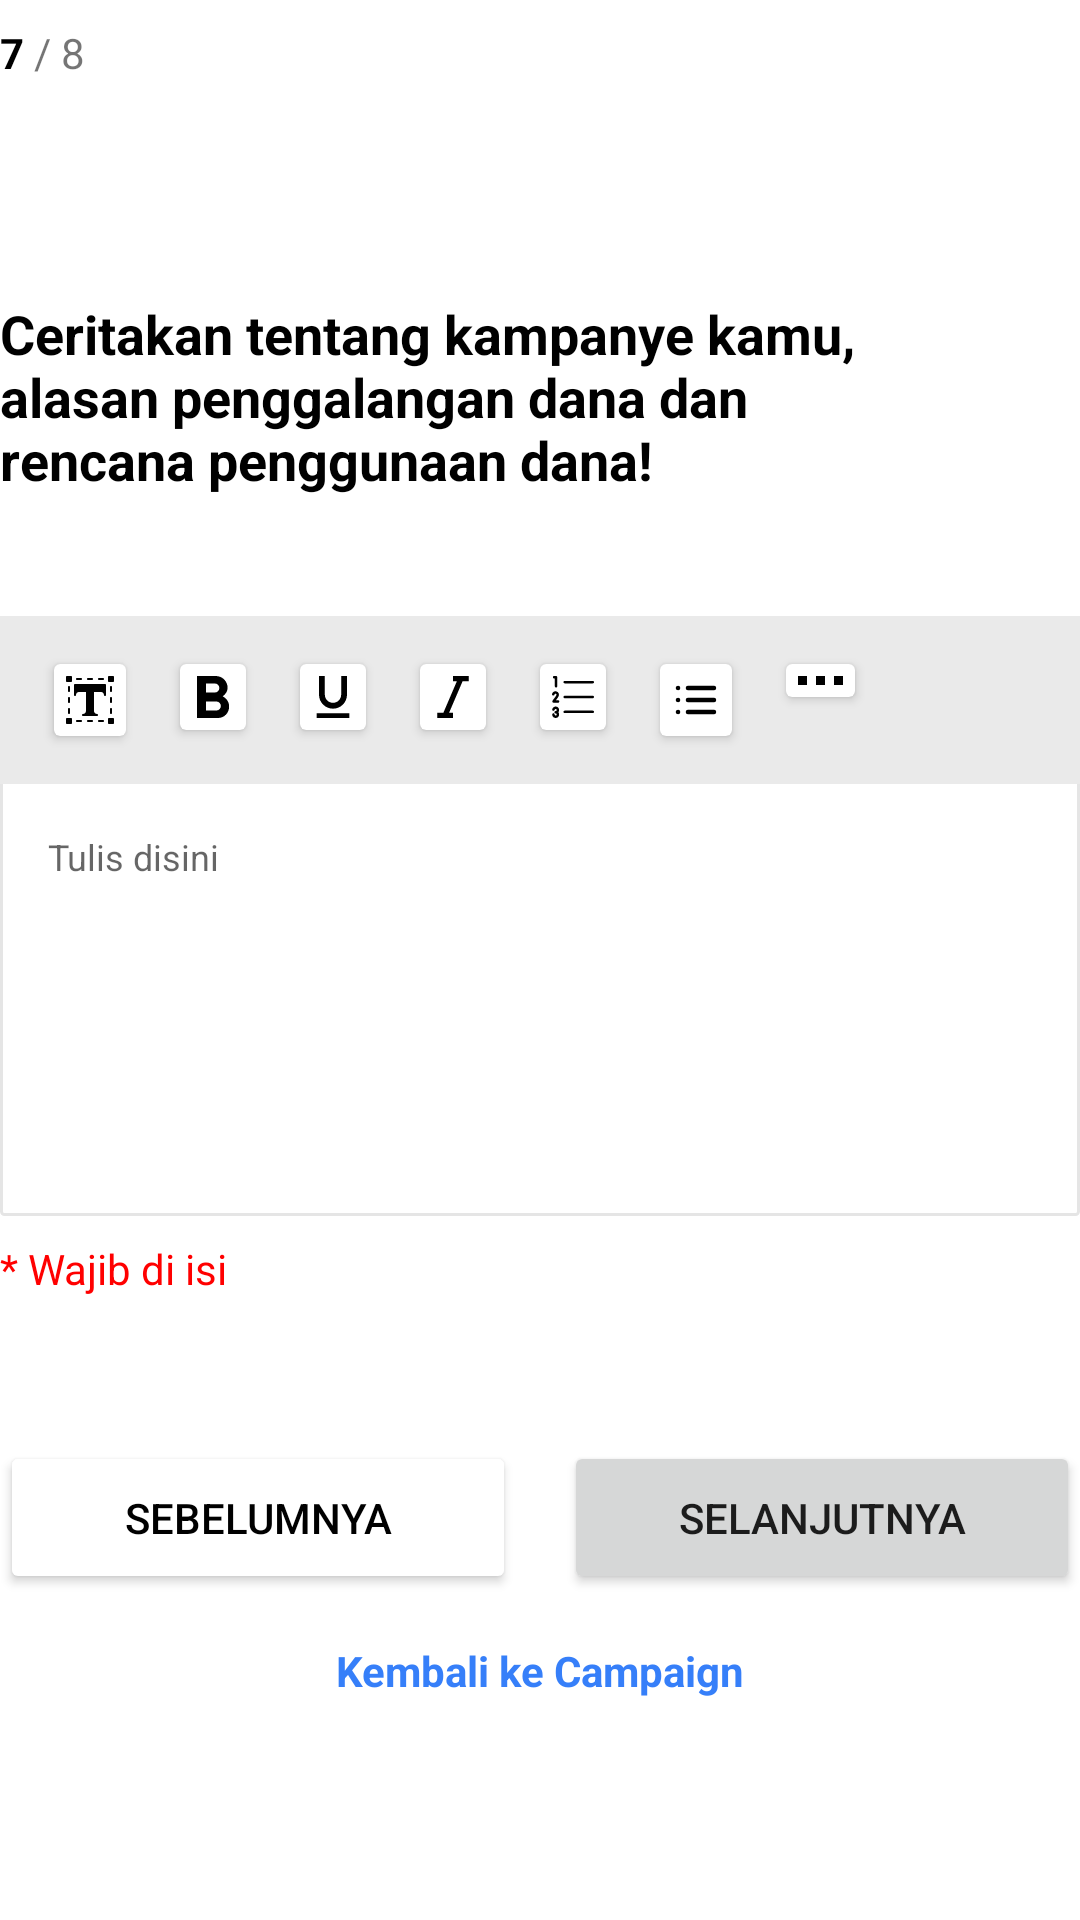

Point at icon controls on the screen. Image size 1080 × 1920, points as (x=x, y=y).
italic: (x=453, y=697)
list: (x=696, y=700)
text: (x=90, y=700)
titik: (x=820, y=680)
underline: (x=333, y=697)
